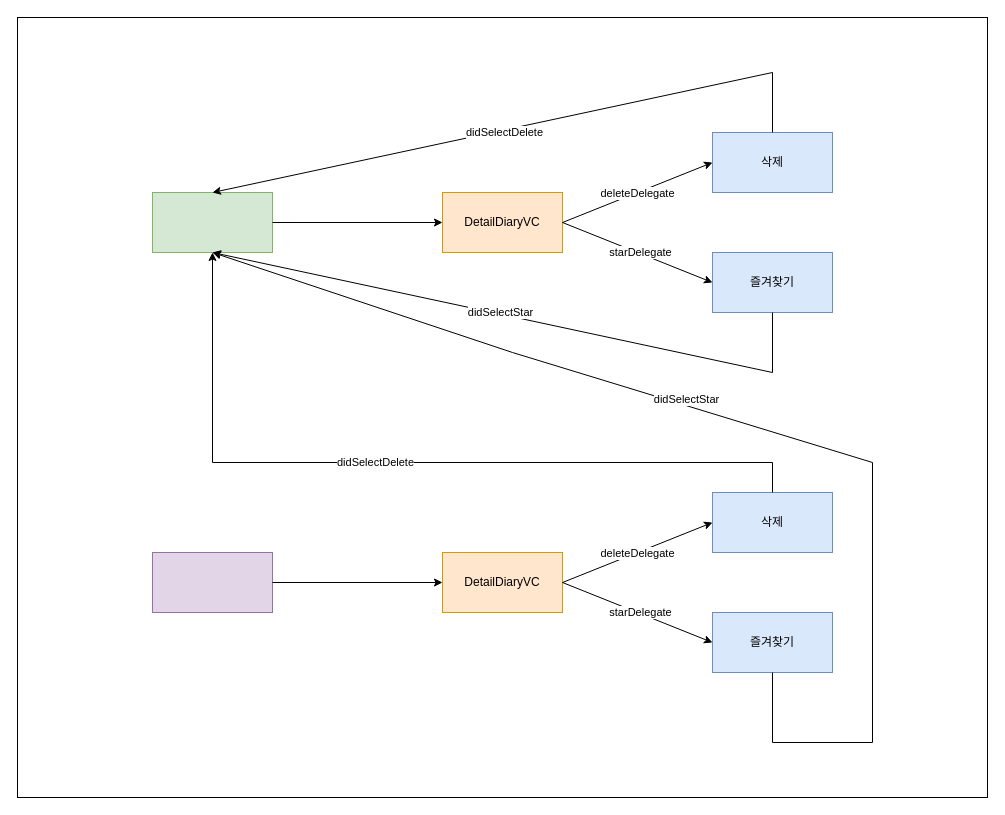
This 1005x815 diagram has some shape labels left out. Here are the shapes that lost their labels. From the top down, the box of each, then its label:
(152, 192, 272, 252): DiaryVC
(152, 552, 272, 612): StarVC
